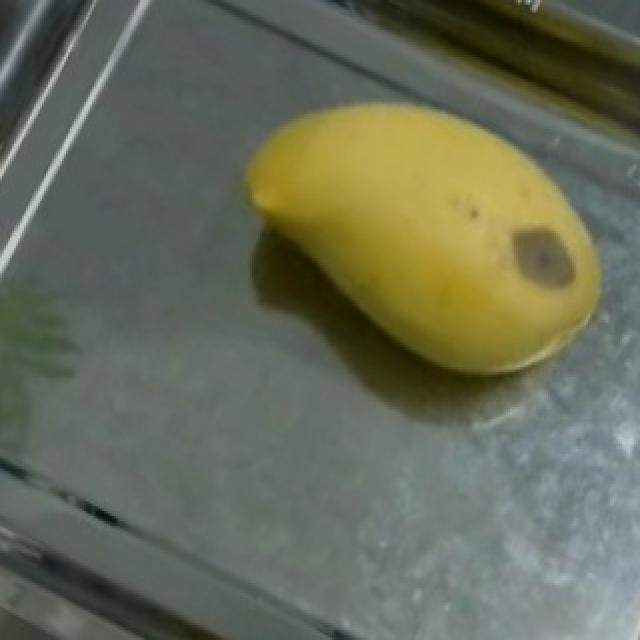fruit: (204, 44, 638, 442)
